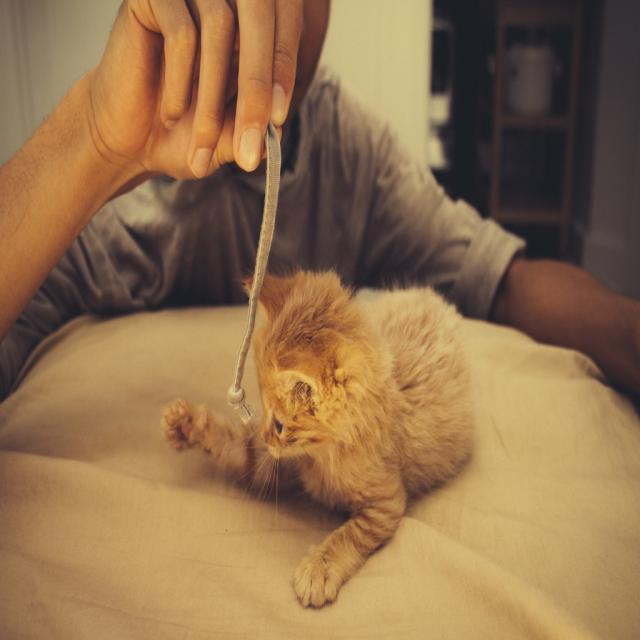Cat: (160, 262, 475, 608)
